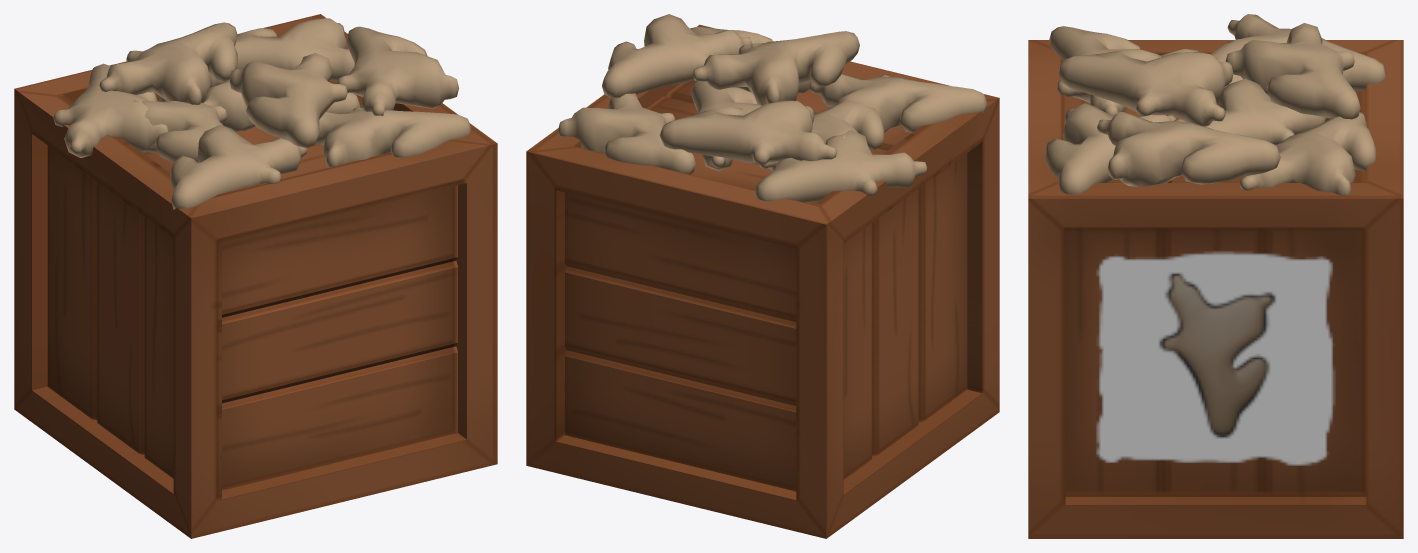
The model's file is caixa gengibre.fbx.
The picture shows the model from 3 angles, left to right: view 1: azimuth 30°, elevation 25°; view 2: azimuth 150°, elevation 25°; view 3: azimuth 270°, elevation 25°; orthographic projection. The views are drawn at different scales.
Visible parts, largest first — view 1: Caixas.009; view 2: Caixas.009; view 3: Caixas.009.
Part boxes in pixels (bbox=[...]): Caixas.009: bbox=[14, 14, 497, 538]; Caixas.009: bbox=[526, 14, 999, 538]; Caixas.009: bbox=[1028, 14, 1403, 538].
Size of the model in its own units: 220 by 237 by 200.
Materials: 2 (2 with a texture image).
